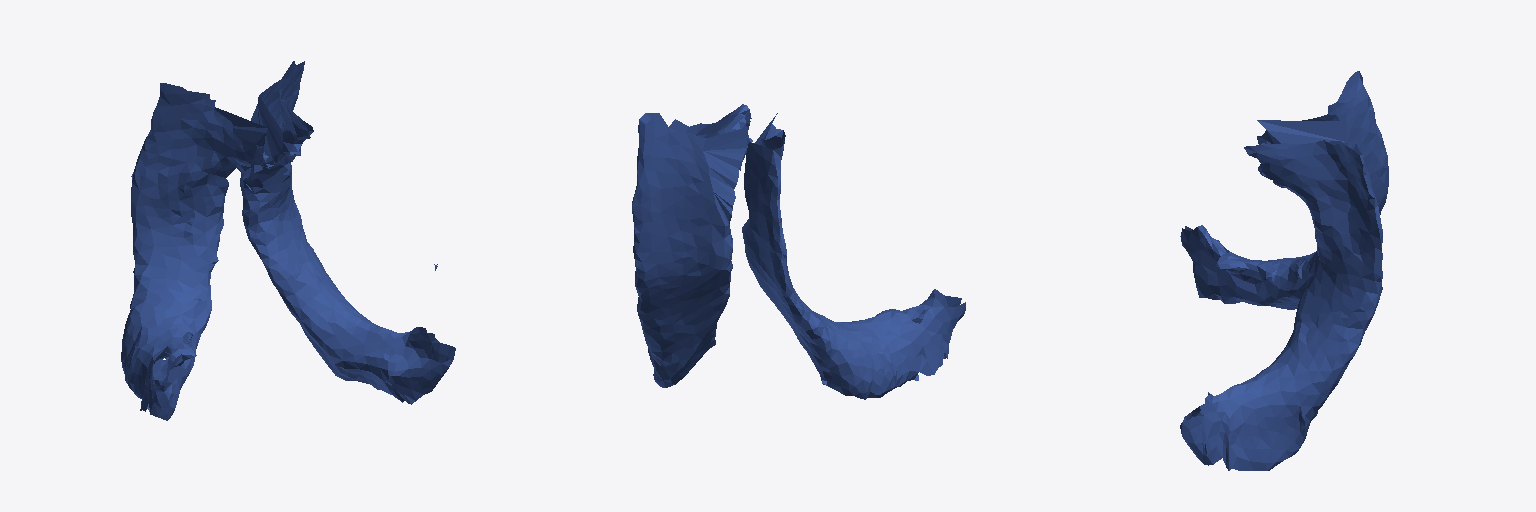
The model's file is lateral_ventricles_SE.obj.
The picture shows the model from 3 angles: view 1: azimuth 30°, elevation 25°; view 2: azimuth 150°, elevation 25°; view 3: azimuth 270°, elevation 25°; orthographic projection.
Visible parts, largest first — view 1: Lateral_Ventricles_Se_lateral_ventricle.000; view 2: Lateral_Ventricles_Se_lateral_ventricle.000; view 3: Lateral_Ventricles_Se_lateral_ventricle.000.
Boxes of the visible parts, x1,y1,x2,y2 form: Lateral_Ventricles_Se_lateral_ventricle.000: [121, 61, 455, 420]; Lateral_Ventricles_Se_lateral_ventricle.000: [632, 104, 965, 399]; Lateral_Ventricles_Se_lateral_ventricle.000: [1180, 71, 1388, 470].
Bounding box in the file's own units: 176 × 176 × 110.